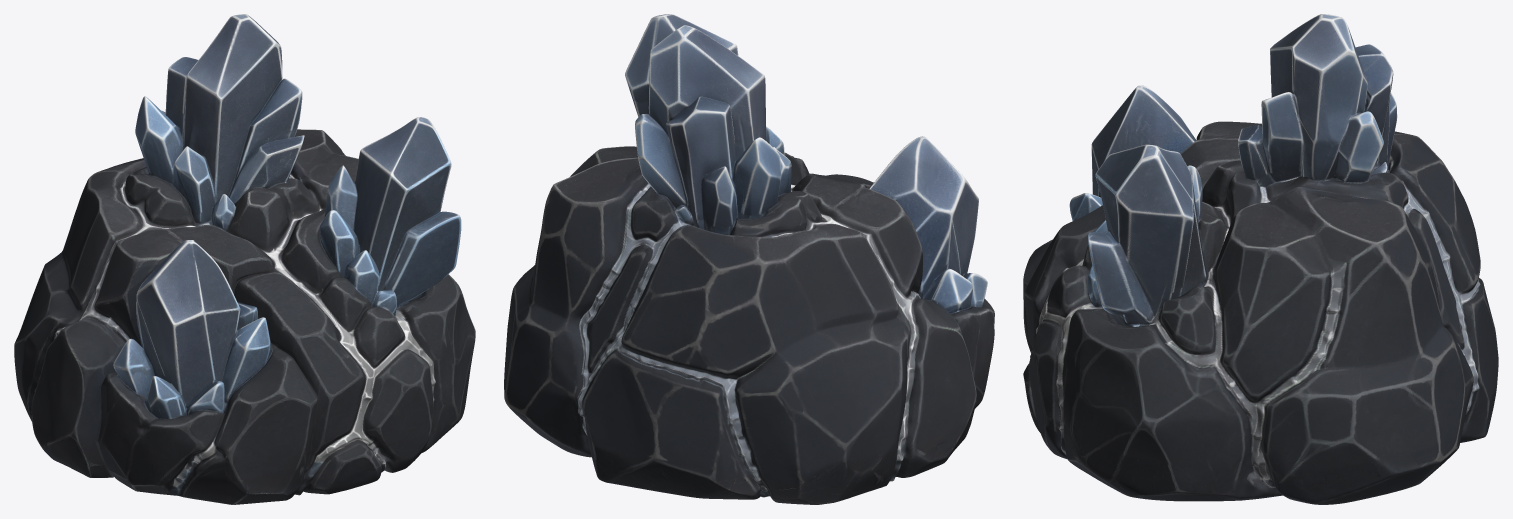
File: PocketForge_IronOre_Imported.glb
3 renders of one model, left to right at view 1: azimuth 30°, elevation 25°; view 2: azimuth 150°, elevation 25°; view 3: azimuth 270°, elevation 25°, orthographic. The views are drawn at different scales.
Bounding box in the file's own units: 1.9 × 1.77 × 1.84.
Materials: 1 (1 with a texture image).
